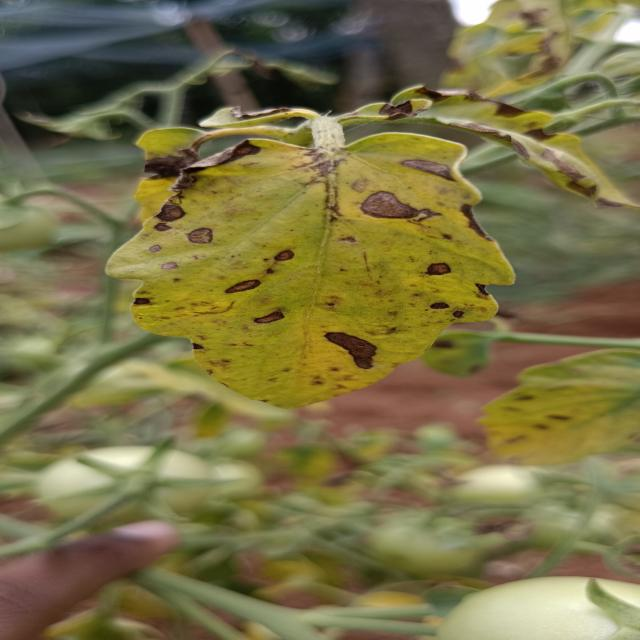tomato_early blight: (125, 130, 516, 408), (353, 84, 640, 210), (461, 345, 640, 470)
